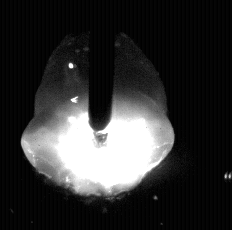arame: (89, 0, 114, 130)
poca: (20, 0, 175, 230)
